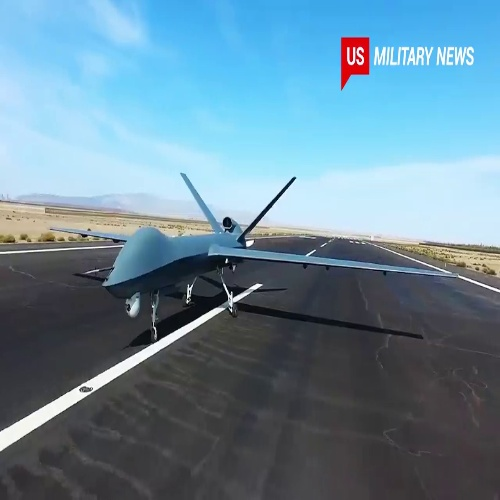uav132: (46, 167, 463, 340)
